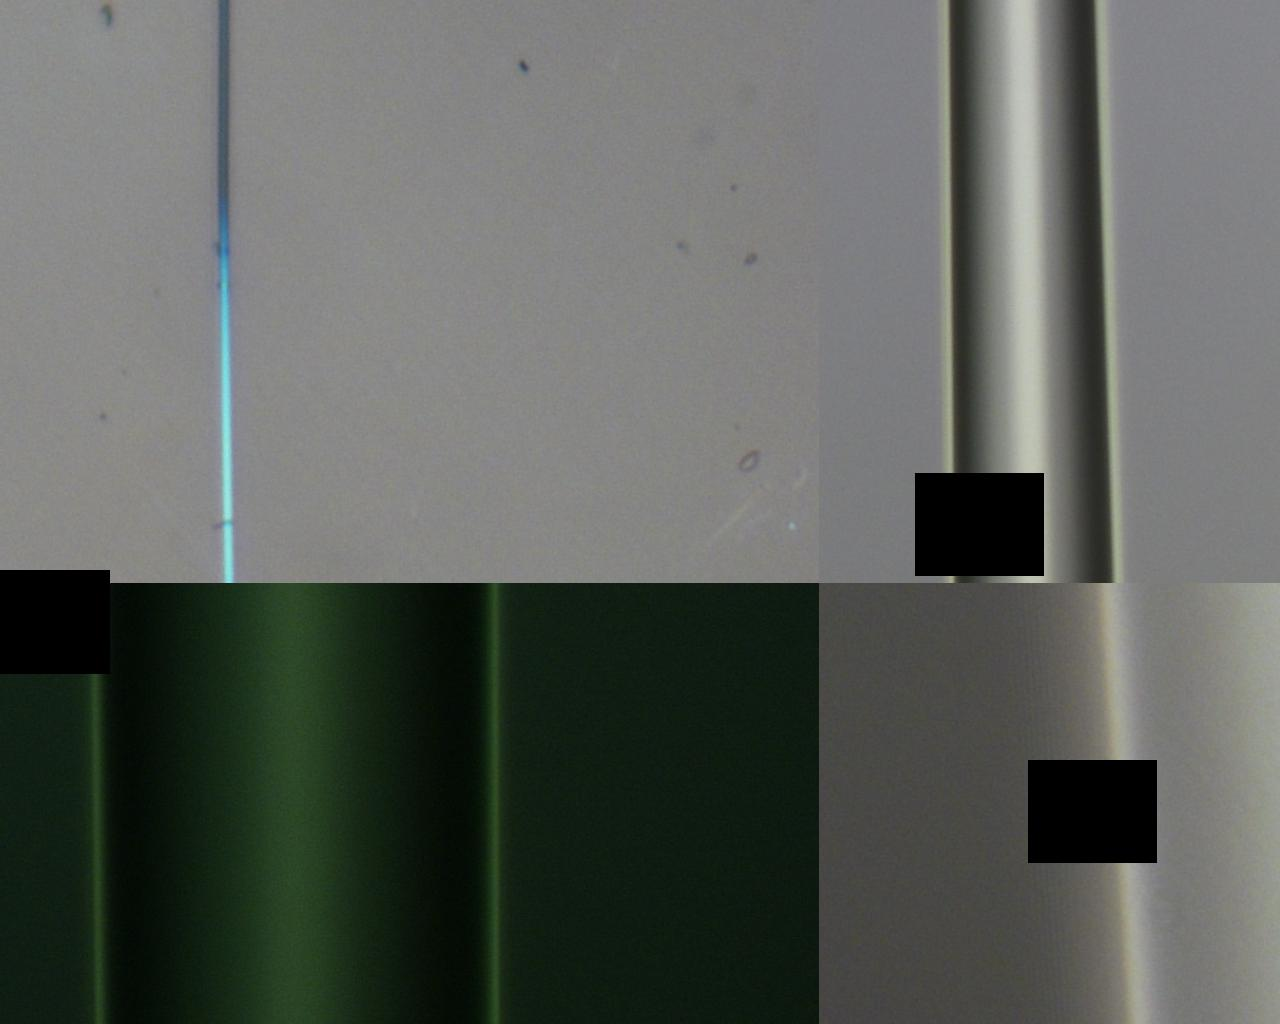fiber: (90, 583, 495, 1024), (944, 0, 1113, 583), (1093, 583, 1280, 1024), (219, 0, 235, 583)
